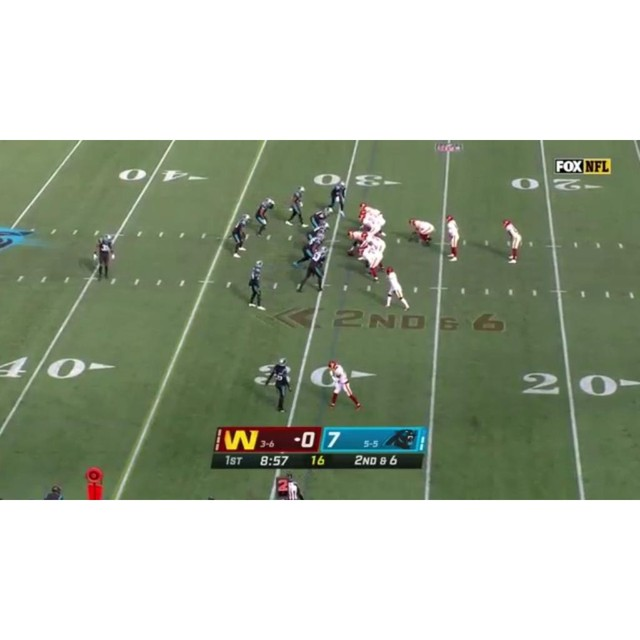american-football-player: (327, 359, 361, 411), (296, 246, 329, 293), (265, 357, 291, 412), (384, 267, 411, 311), (294, 233, 325, 268), (93, 234, 115, 282), (246, 260, 265, 311), (502, 219, 523, 265), (358, 245, 383, 282), (230, 214, 251, 258), (286, 186, 307, 227), (255, 198, 276, 238), (408, 218, 435, 247), (445, 214, 461, 261), (326, 182, 348, 216), (346, 228, 368, 256), (359, 215, 385, 237), (310, 206, 332, 231)
